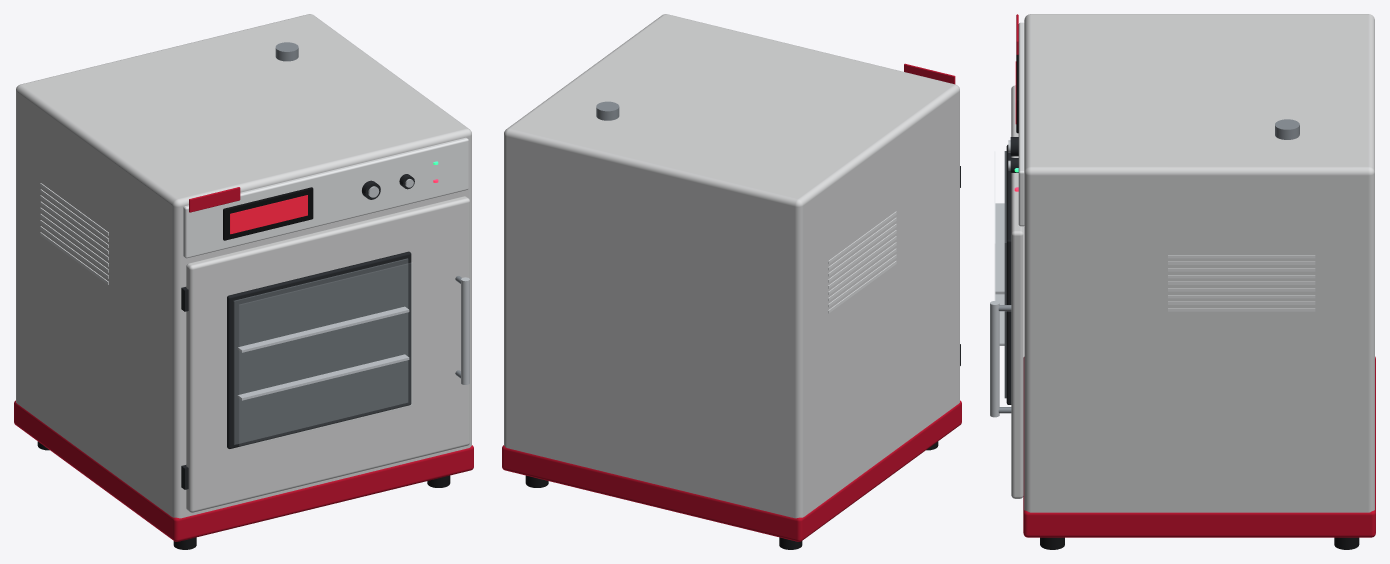
The model's file is nst-120.glb.
3 views of the same model, side by side, from view 1: azimuth 30°, elevation 25°; view 2: azimuth 150°, elevation 25°; view 3: azimuth 270°, elevation 25° (orthographic). The views are drawn at different scales.
Bounding box in the file's own units: 0.6636 × 0.775 × 0.682.
